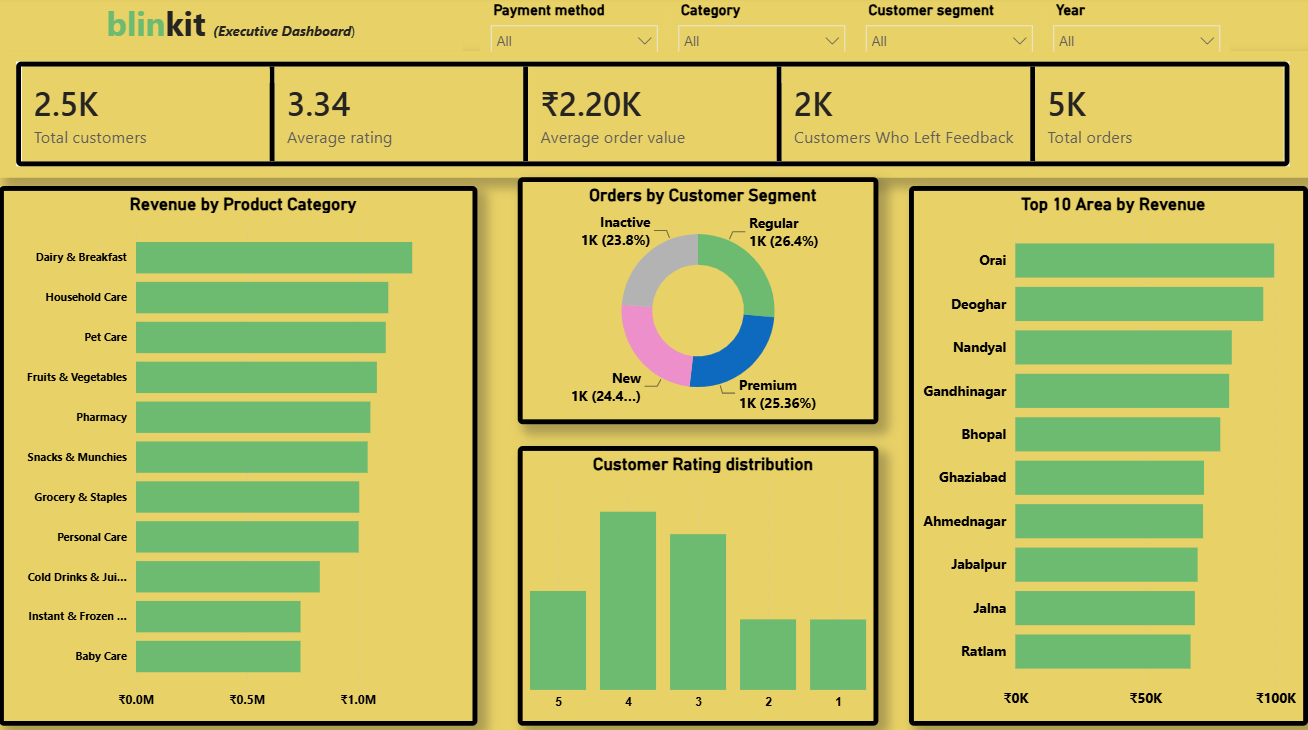

This screenshot's page, from the dashboard's own definition file:
{"tool":"powerbi","page":{"name":"Executive Dashboard","canvas":[1280,720],"ordinal":0},"visuals":[{"type":"cardVisual","fields":{"Data":["blinkit_customers.total customers","blinkit_customer_feedback.Average rating","blinkit_orders.Average order value","blinkit_customer_feedback.Customers Who Left Feedback","blinkit_orders.Total orders"]},"box":[0,54.2,1280.6,123.6],"z":0},{"type":"clusteredBarChart","title":"Revenue by Product Category","fields":{"Category":["blinkit_products.category"],"Y":["blinkit_orders.Total revenue"]},"box":[0,186.1,468.1,527.8],"z":1000},{"type":"donutChart","title":"Orders by Customer Segment","fields":{"Y":["blinkit_orders.Total orders"],"Category":["blinkit_customers.customer_segment"]},"box":[506.9,177.8,352.8,241.7],"z":2000},{"type":"clusteredBarChart","title":"Top 10 Area by Revenue","fields":{"Y":["blinkit_orders.Total revenue"],"Category":["blinkit_customers.area"]},"box":[890.3,186.1,390.3,527.8],"z":3000},{"type":"clusteredColumnChart","title":"Customer Rating distribution","fields":{"Category":["blinkit_customer_feedback.rating"],"Y":["blinkit_customer_feedback.customers by rating"]},"box":[506.9,440.3,352.8,273.6],"z":4000},{"type":"slicer","fields":{"Values":["blinkit_orders.order_date.Variation.Date Hierarchy.Year"]},"box":[1020.8,0,183.3,54.2],"z":5000},{"type":"slicer","fields":{"Values":["blinkit_customers.customer_segment"]},"box":[837.5,0,183.3,54.2],"z":6000},{"type":"slicer","fields":{"Values":["blinkit_products.category"]},"box":[654.2,0,183.3,54.2],"z":7000},{"type":"slicer","fields":{"Values":["blinkit_orders.payment_method"]},"box":[470.8,0,183.3,54.2],"z":8000},{"type":"textbox","box":[0,0,453.7,53.7],"z":9000}]}

Visuals, with their boxes in screenshot pixels (x1, y1, x2, y2), scaled from the page's 1280x720 canvas onto the 1308x730 screenshot:
cardVisual - blinkit_customers.total customers x blinkit_customer_feedback.Average rating: (0, 55, 1307, 180)
"Revenue by Product Category" clusteredBarChart: (0, 189, 478, 724)
"Orders by Customer Segment" donutChart: (518, 180, 879, 425)
"Top 10 Area by Revenue" clusteredBarChart: (910, 189, 1307, 724)
"Customer Rating distribution" clusteredColumnChart: (518, 446, 879, 724)
slicer - blinkit_orders.order_date.Variation.Date Hierarchy.Year: (1043, 0, 1230, 55)
slicer - blinkit_customers.customer_segment: (856, 0, 1043, 55)
slicer - blinkit_products.category: (669, 0, 856, 55)
slicer - blinkit_orders.payment_method: (481, 0, 668, 55)
textbox: (0, 0, 464, 54)
